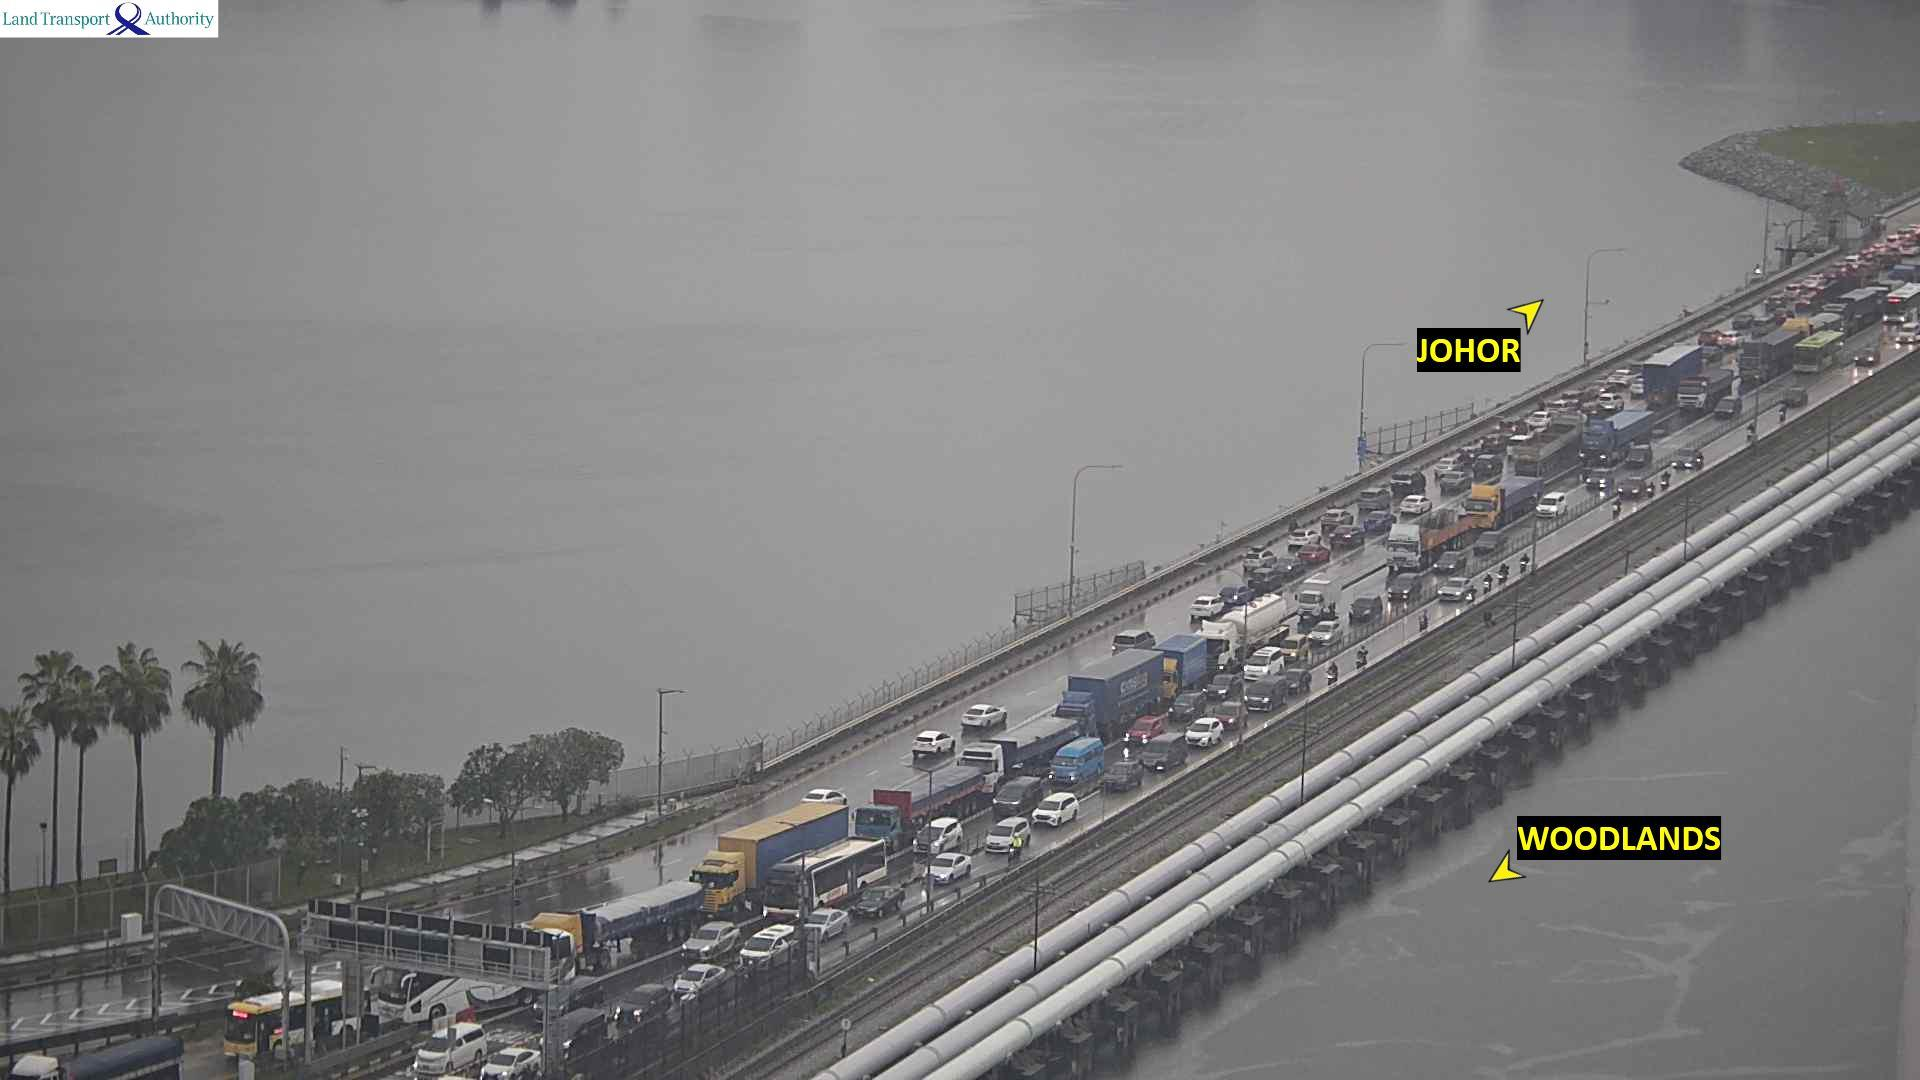vehicle-causeway-johor: (959, 705, 1010, 728), (914, 732, 959, 753), (800, 787, 847, 806), (1117, 630, 1162, 647), (1356, 516, 1396, 534), (1704, 331, 1747, 348), (1321, 509, 1352, 530), (1396, 495, 1435, 510), (1443, 469, 1480, 485), (1287, 529, 1319, 547), (1358, 489, 1390, 508), (1387, 472, 1423, 488), (1218, 585, 1254, 601), (1244, 549, 1274, 567), (1250, 570, 1280, 588), (1473, 455, 1503, 473), (1335, 527, 1370, 542), (1191, 597, 1220, 615), (1435, 458, 1461, 476), (1298, 546, 1331, 560), (1460, 447, 1487, 462), (1600, 393, 1622, 410), (1399, 476, 1433, 487), (1507, 435, 1528, 452), (1610, 371, 1633, 385), (1731, 313, 1753, 327), (1784, 285, 1807, 298), (1631, 376, 1644, 397), (1764, 297, 1784, 310), (1804, 276, 1821, 287)
vehicle-causeway-singapore: (493, 897, 703, 971), (227, 972, 450, 1033), (711, 804, 889, 880), (1062, 651, 1193, 720), (381, 953, 530, 1009), (860, 773, 992, 832), (766, 845, 891, 906), (9, 1040, 182, 1079), (965, 719, 1088, 771), (1393, 512, 1495, 570), (1201, 599, 1302, 651), (1464, 480, 1548, 526), (1578, 414, 1664, 458), (535, 978, 601, 1022), (541, 1011, 604, 1055), (1780, 328, 1844, 371), (1741, 331, 1795, 378), (414, 1026, 488, 1059), (737, 930, 804, 965), (1677, 377, 1738, 411), (616, 984, 670, 1021), (911, 819, 969, 853), (1294, 574, 1340, 616), (686, 927, 746, 959), (1828, 293, 1875, 330), (480, 1052, 545, 1079), (669, 963, 728, 990), (1029, 796, 1080, 828), (996, 779, 1054, 807), (1139, 733, 1184, 769), (1883, 284, 1920, 323), (849, 890, 903, 916), (799, 907, 853, 932), (923, 858, 973, 885), (1245, 646, 1283, 680), (1100, 761, 1141, 790), (1246, 678, 1286, 707), (1386, 576, 1429, 599), (1205, 673, 1241, 699), (1187, 719, 1221, 745), (978, 835, 1023, 855), (1350, 593, 1381, 620), (1536, 492, 1572, 513), (1216, 700, 1246, 724), (1309, 622, 1341, 645), (1440, 578, 1472, 599), (1618, 477, 1646, 497), (1284, 669, 1309, 690), (1584, 473, 1617, 489), (1898, 322, 1920, 343), (1709, 402, 1741, 417), (1677, 458, 1706, 472), (1855, 349, 1879, 364), (1354, 645, 1367, 666), (1328, 661, 1337, 682), (1419, 609, 1429, 628), (1498, 566, 1507, 584), (1613, 498, 1621, 517), (1484, 574, 1491, 591), (1747, 422, 1754, 440), (1647, 483, 1655, 497), (1522, 555, 1528, 572), (1662, 473, 1668, 491), (1780, 406, 1785, 421)
